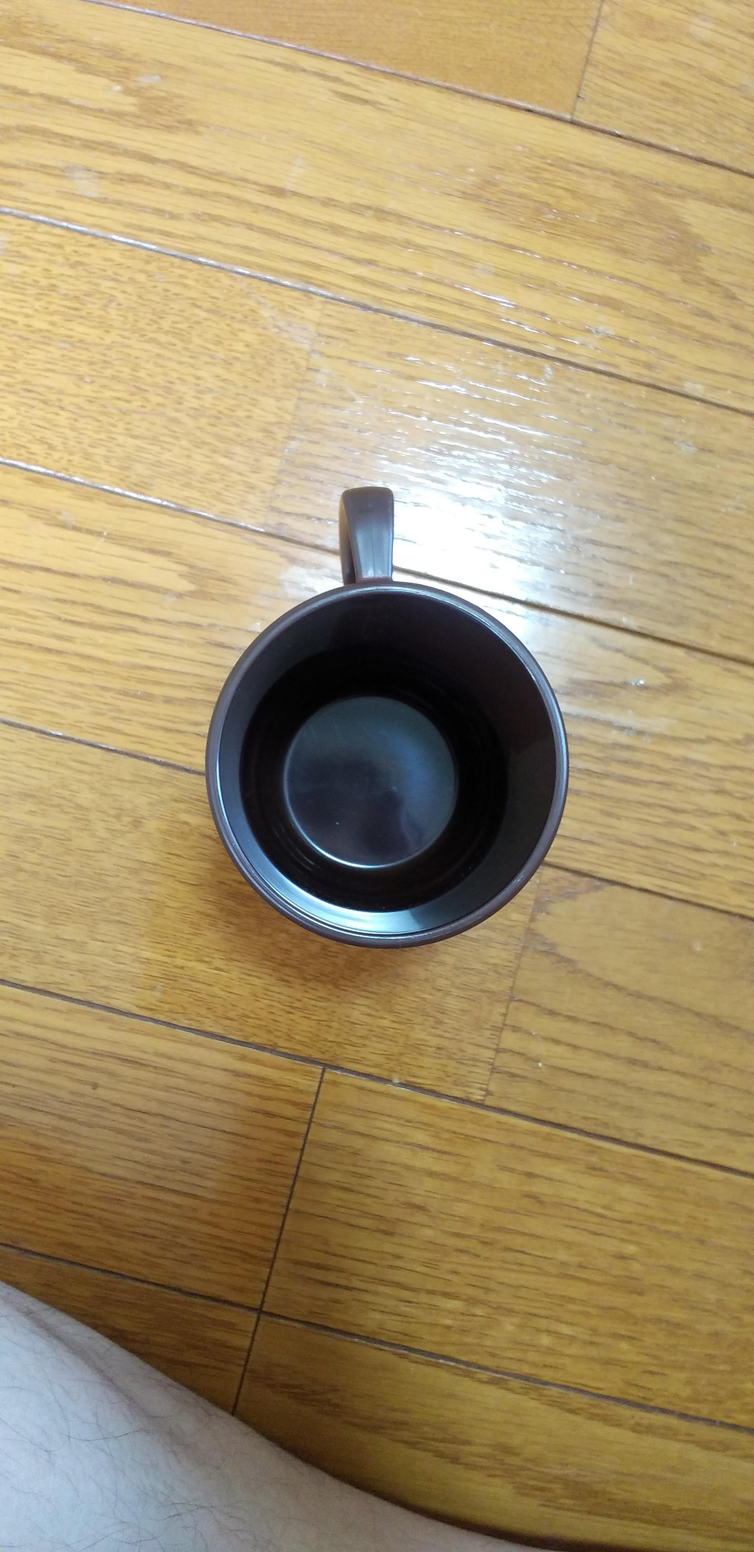mug-real100-3d100: (206, 487, 568, 948)
